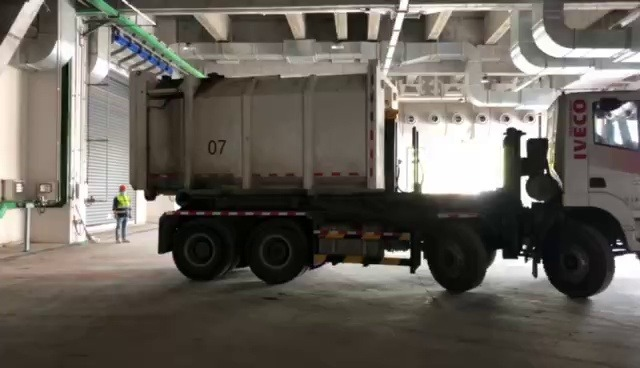truck: (122, 45, 640, 298)
